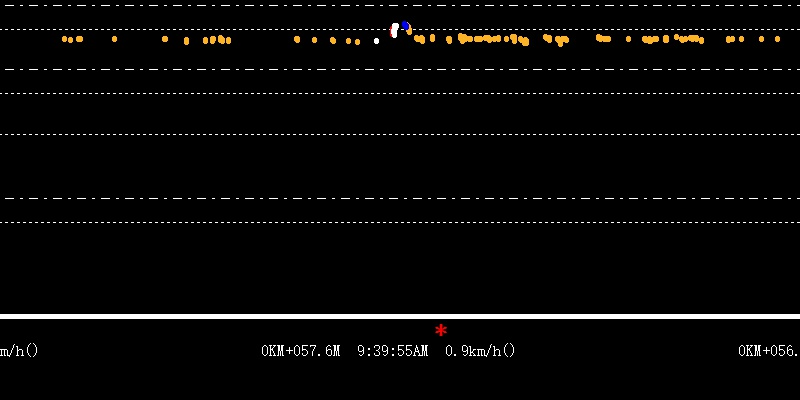face_s: (402, 18, 414, 39), (391, 18, 398, 38)
star: (434, 321, 447, 337)
